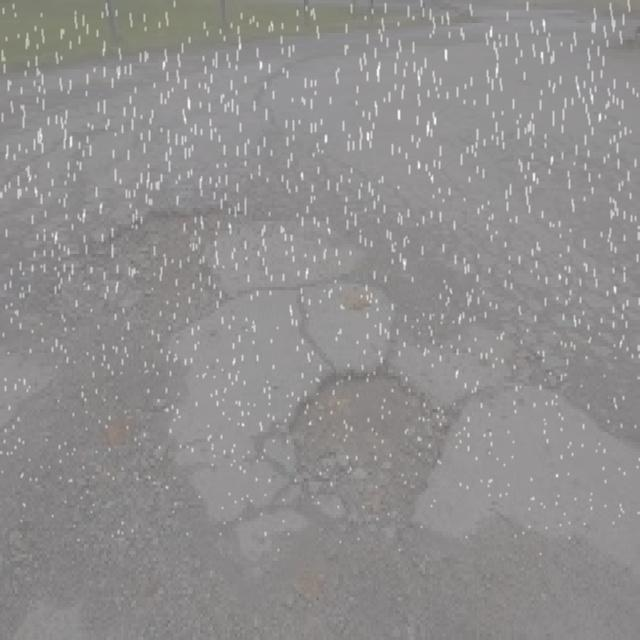Pothole: (275, 352, 469, 554), (76, 184, 227, 334)
